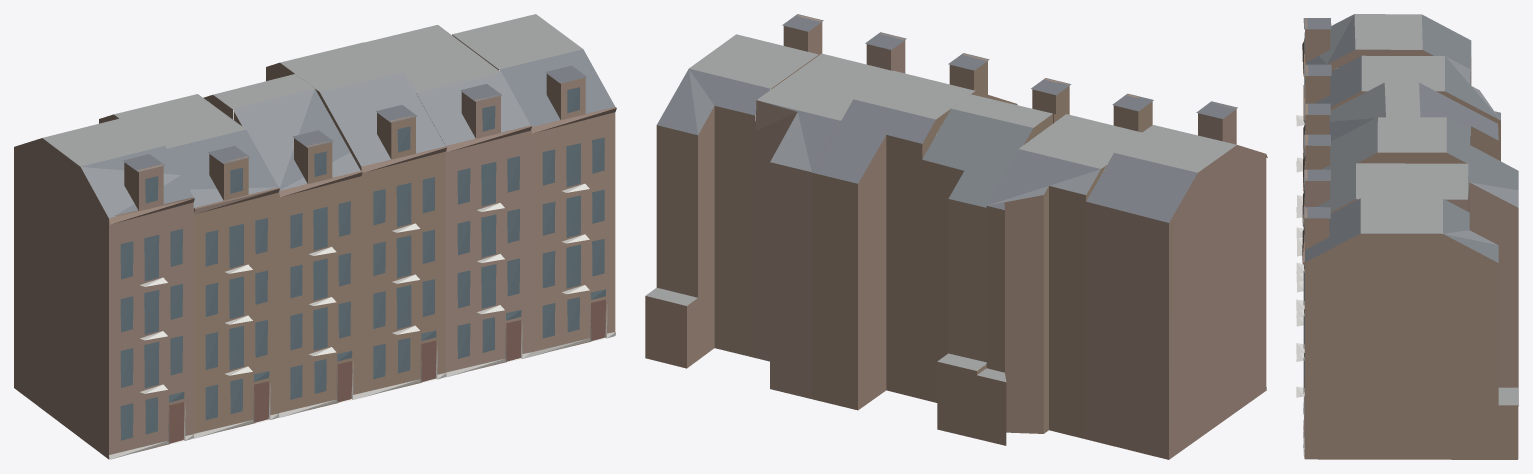
The model's file is chunk-face-helmers-23-57-r2.lod2.glb.
3 renders of one model, left to right at view 1: azimuth 30°, elevation 25°; view 2: azimuth 150°, elevation 25°; view 3: azimuth 270°, elevation 25°, orthographic. The views are drawn at different scales.
Visible parts, largest first — view 1: lod2; view 2: lod2; view 3: lod2.
Boxes of the visible parts, x1,y1,x2,y2 form: lod2: (14,14,616,459); lod2: (645,14,1267,459); lod2: (1296,14,1518,459).
Bounding box in the file's own units: 35.39 × 18.68 × 15.63.
